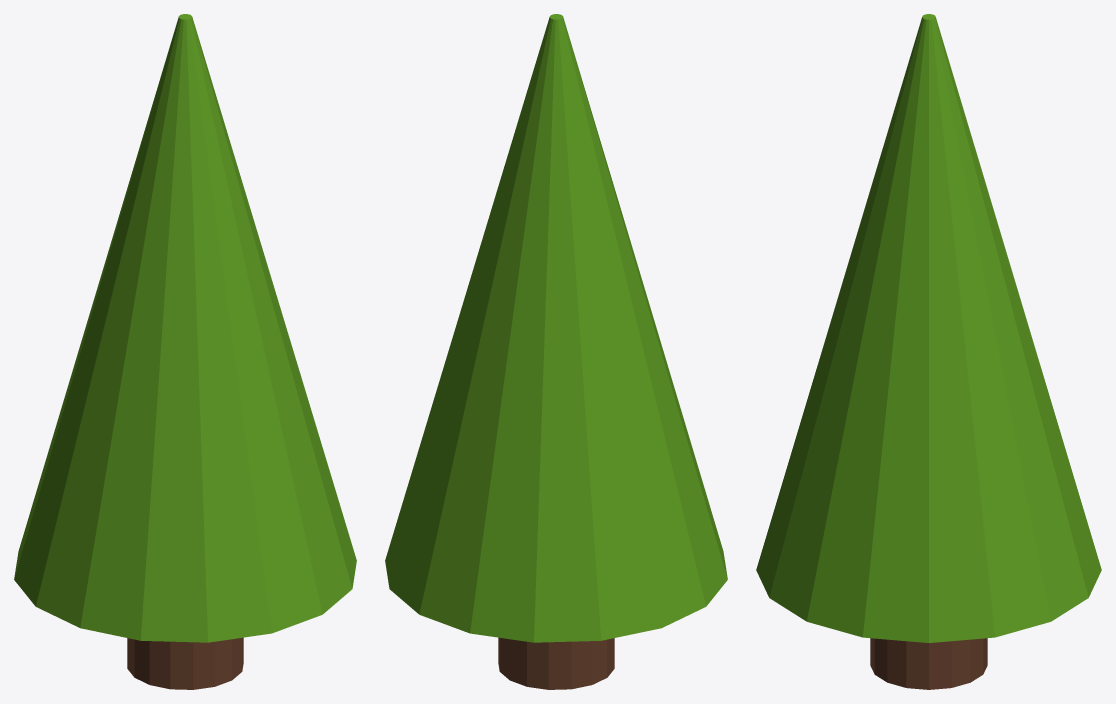
Rendered from Tree.glb.
3 views of the same model, side by side, from view 1: azimuth 30°, elevation 25°; view 2: azimuth 150°, elevation 25°; view 3: azimuth 270°, elevation 25° (orthographic).
Parts seen in each view (by area): view 1: Tree; view 2: Tree; view 3: Tree.
Part boxes in pixels (<box>): Tree: <box>14,14,356,689</box>; Tree: <box>385,14,727,689</box>; Tree: <box>756,14,1101,689</box>.
Size of the model in its own units: 1.14 by 2.36 by 1.14.
1 material, 1 textured.
